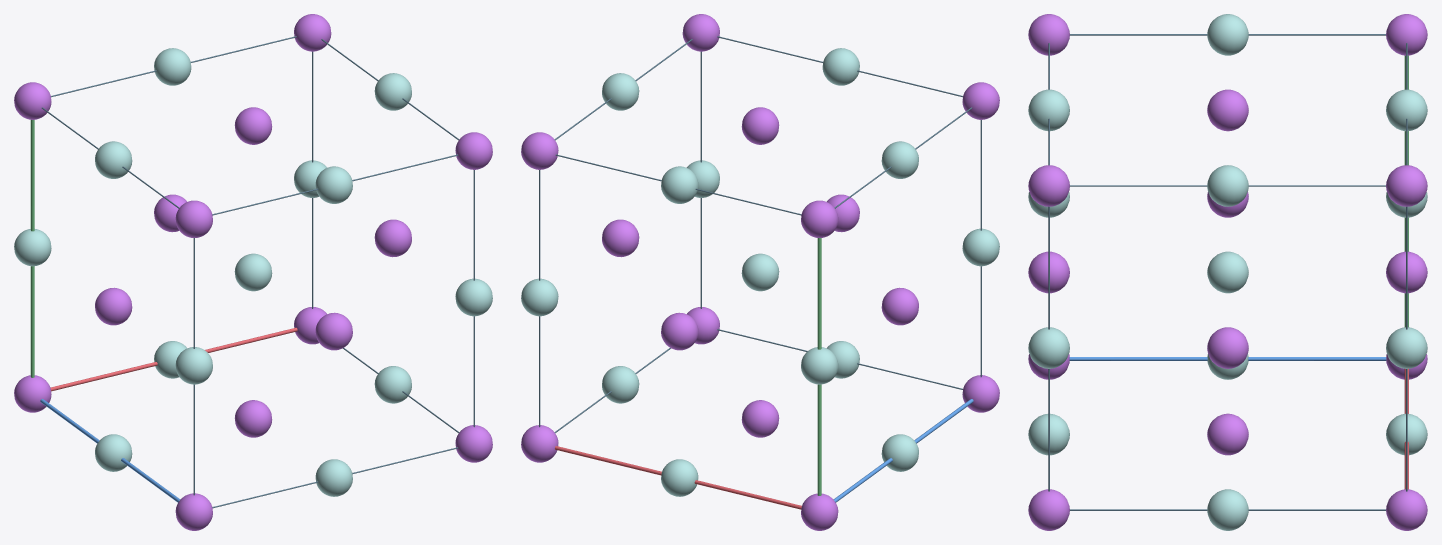
Rendered from chat-lithium-bromide.glb.
3 renders of one model, left to right at view 1: azimuth 30°, elevation 25°; view 2: azimuth 150°, elevation 25°; view 3: azimuth 270°, elevation 25°, orthographic. The views are drawn at different scales.
Visible parts, largest first — view 1: Li1 · Li · 1 (×14), Br1 · Br · 1 (×13), Ô mạng và các trục a, b, c; view 2: Li1 · Li · 1 (×14), Br1 · Br · 1 (×13), Ô mạng và các trục a, b, c; view 3: Li1 · Li · 1 (×13), Br1 · Br · 1 (×13), Ô mạng và các trục a, b, c.
Boxes of the visible parts, x1=… form: Li1 · Li · 1 (×14): x1=14, y1=14, x2=492, y2=530; Br1 · Br · 1 (×13): x1=14, y1=48, x2=492, y2=496; Ô mạng và các trục a, b, c: x1=30, y1=36, x2=474, y2=508; Li1 · Li · 1 (×14): x1=521, y1=14, x2=999, y2=530; Br1 · Br · 1 (×13): x1=521, y1=48, x2=999, y2=496; Ô mạng và các trục a, b, c: x1=539, y1=36, x2=981, y2=509; Li1 · Li · 1 (×13): x1=1028, y1=14, x2=1427, y2=530; Br1 · Br · 1 (×13): x1=1028, y1=14, x2=1427, y2=530; Ô mạng và các trục a, b, c: x1=1048, y1=34, x2=1408, y2=510.
Size of the model in its own units: 6.13 by 6.13 by 6.13.
